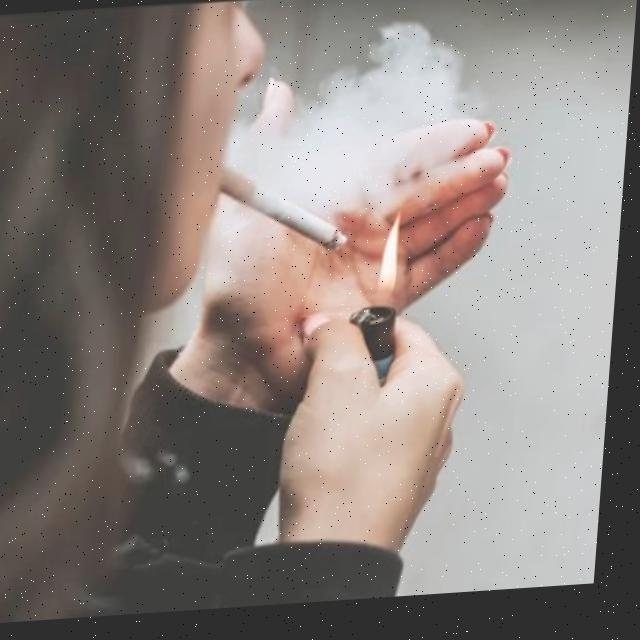cigarette: (218, 164, 357, 263)
